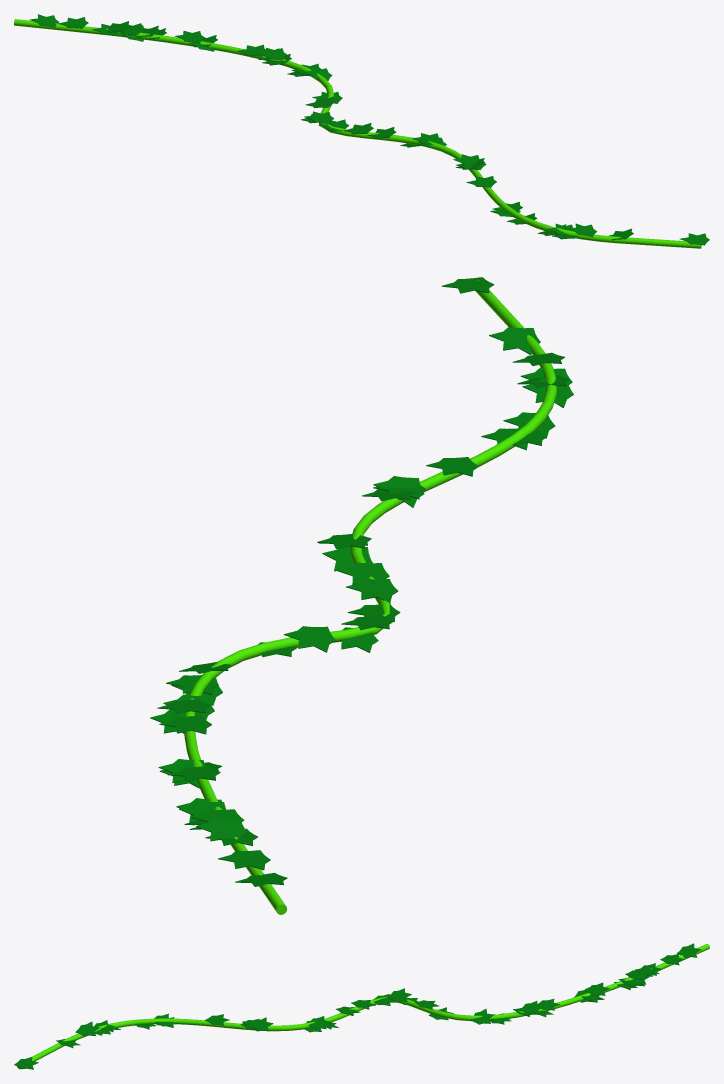
The picture shows the model from 3 angles, top to bottom: view 1: azimuth 30°, elevation 25°; view 2: azimuth 150°, elevation 25°; view 3: azimuth 270°, elevation 25°; orthographic projection. The views are drawn at different scales.
Parts seen in each view (by area): view 1: 円柱; view 2: 円柱; view 3: 円柱.
Part boxes in pixels (x1,y1,x2,y2): 円柱: (14, 14, 709, 248); 円柱: (150, 277, 573, 914); 円柱: (14, 943, 709, 1069).
Size of the model in its own units: 5019 by 239 by 11690.
